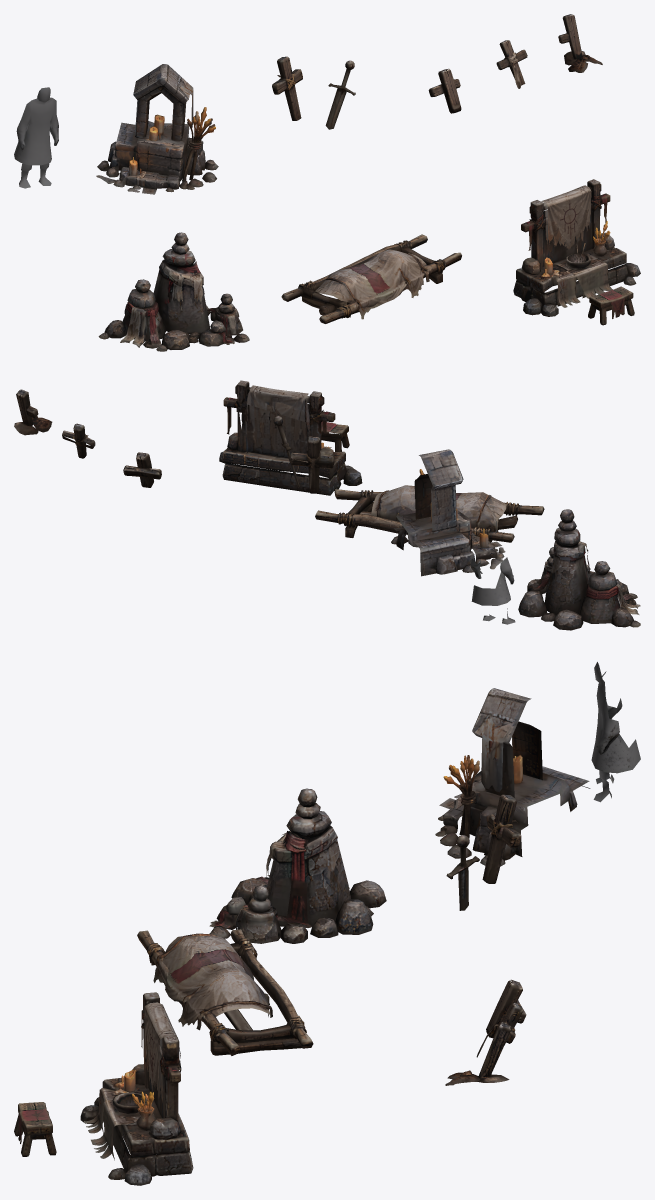
The model's file is asset_21_shrine_graves_set.glb.
3 renders of one model, top to bottom at view 1: azimuth 30°, elevation 25°; view 2: azimuth 150°, elevation 25°; view 3: azimuth 270°, elevation 25°, orthographic. The views are drawn at different scales.
Visible parts, largest first — view 1: tripo_95f8f640_a27d_40d6_a702_b88d706a9edb; view 2: tripo_95f8f640_a27d_40d6_a702_b88d706a9edb; view 3: tripo_95f8f640_a27d_40d6_a702_b88d706a9edb.
Boxes of the visible parts, x1,y1,x2,y2 form: tripo_95f8f640_a27d_40d6_a702_b88d706a9edb: [14, 14, 640, 351]; tripo_95f8f640_a27d_40d6_a702_b88d706a9edb: [14, 380, 640, 630]; tripo_95f8f640_a27d_40d6_a702_b88d706a9edb: [14, 662, 640, 1185].
Size of the model in its own units: 0.9995 by 0.3315 by 0.7114.
Materials: 1 (1 with a texture image).
